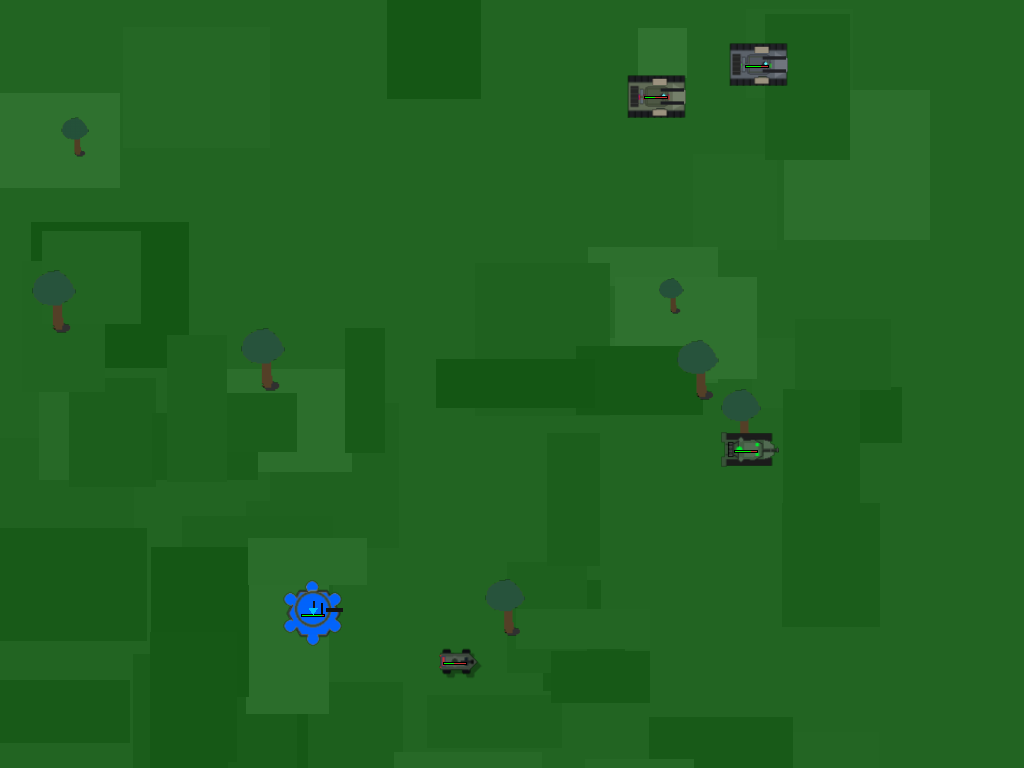APC_chn: (630, 69, 682, 121)
APC_rus: (731, 38, 783, 90)
ArmoredCar: (437, 643, 473, 679)
Bunker: (279, 579, 347, 647)
M1A2_rus: (718, 420, 774, 476)
